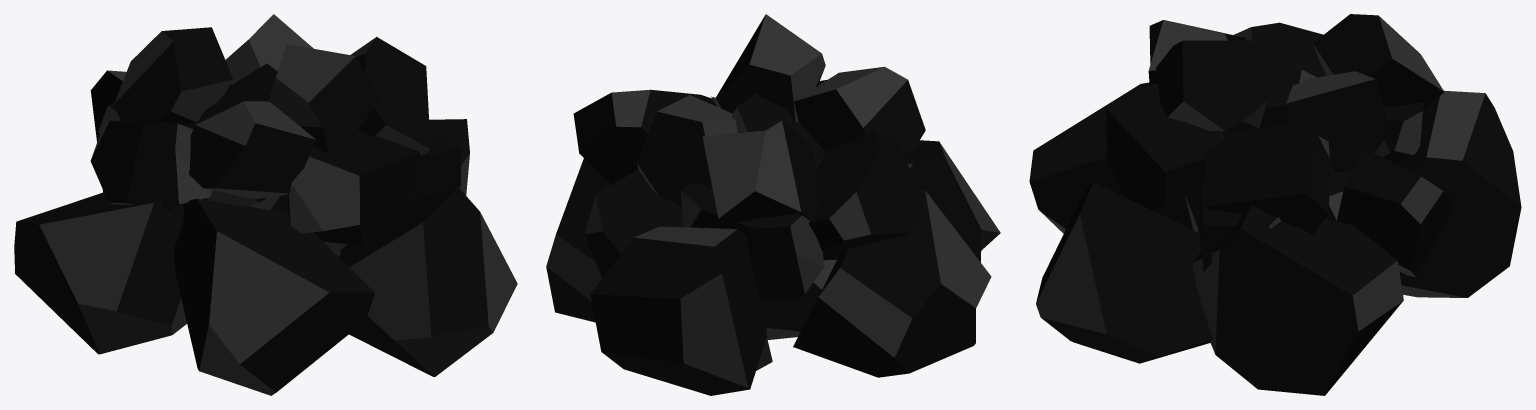
The model's file is pile_coal_small.fbx.
3 renders of one model, left to right at view 1: azimuth 30°, elevation 25°; view 2: azimuth 150°, elevation 25°; view 3: azimuth 270°, elevation 25°, orthographic.
Visible parts, largest first — view 1: Cube.023; view 2: Cube.023; view 3: Cube.023.
Boxes of the visible parts, <box> form: Cube.023: <box>14,14,517,395</box>; Cube.023: <box>546,14,1000,395</box>; Cube.023: <box>1029,14,1521,395</box>.
Size of the model in its own units: 122 by 87.02 by 133.
